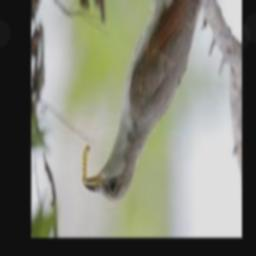Cuckoo: (84, 0, 221, 201)
